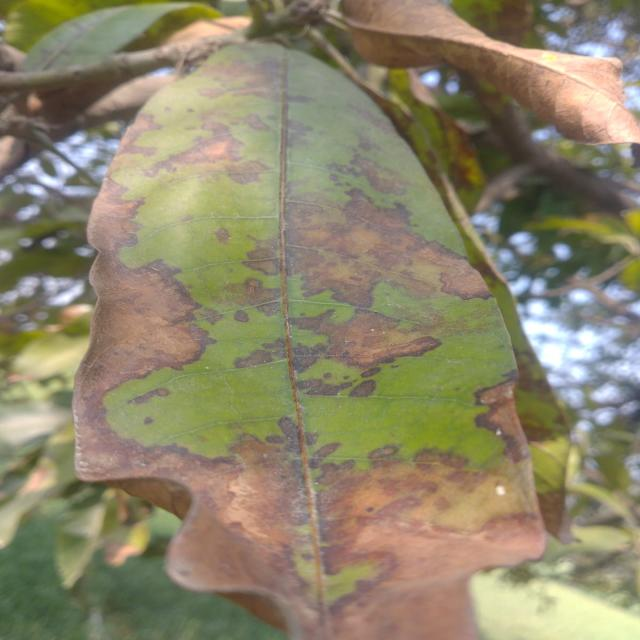Anthracnose: (284, 218, 441, 380), (144, 265, 229, 369)
Bacterial Cancer: (365, 487, 507, 559)
